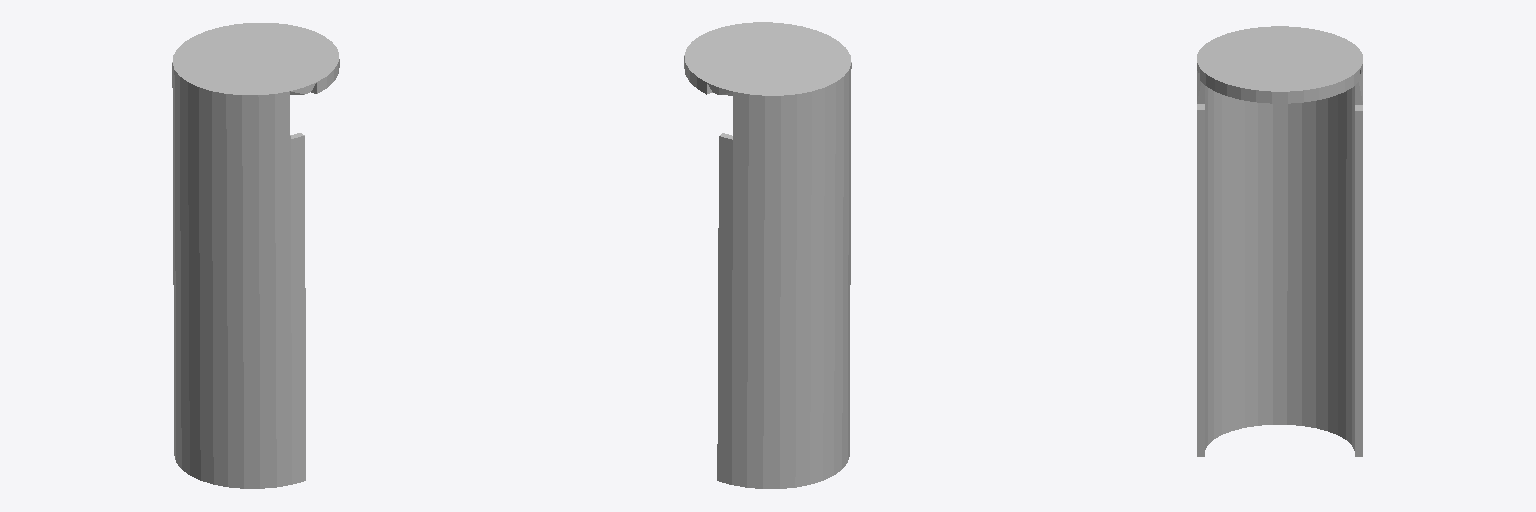
Rendered from Main_Bore.obj.
3 views of the same model, side by side, from view 1: azimuth 30°, elevation 25°; view 2: azimuth 150°, elevation 25°; view 3: azimuth 270°, elevation 25° (orthographic).
Parts seen in each view (by area): view 1: Main_Bore_Cylinder.003; view 2: Main_Bore_Cylinder.003; view 3: Main_Bore_Cylinder.003.
Part boxes in pixels (x1,y1,x2,y2): Main_Bore_Cylinder.003: (172, 23, 339, 488); Main_Bore_Cylinder.003: (684, 22, 851, 488); Main_Bore_Cylinder.003: (1197, 26, 1362, 456).
Size of the model in its own units: 1.99 by 5.27 by 1.99.